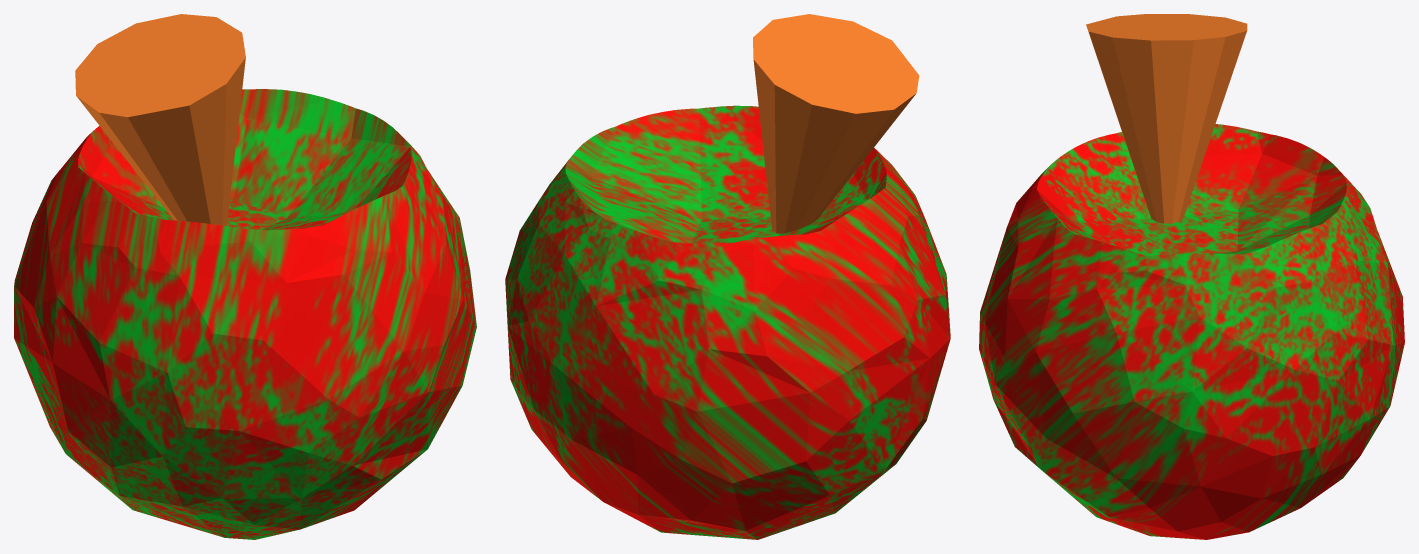
The model's file is cherrySpoiled.glb.
3 views of the same model, side by side, from view 1: azimuth 30°, elevation 25°; view 2: azimuth 150°, elevation 25°; view 3: azimuth 270°, elevation 25° (orthographic). The views are drawn at different scales.
Parts seen in each view (by area): view 1: Mesh_0.002, Mesh_1.002; view 2: Mesh_0.002, Mesh_1.002; view 3: Mesh_0.002, Mesh_1.002.
Part boxes in pixels (bbox=[...]): Mesh_0.002: bbox=[14, 89, 476, 539]; Mesh_1.002: bbox=[75, 14, 245, 225]; Mesh_0.002: bbox=[505, 105, 950, 539]; Mesh_1.002: bbox=[753, 14, 919, 233]; Mesh_0.002: bbox=[979, 124, 1404, 539]; Mesh_1.002: bbox=[1086, 14, 1247, 223].
Size of the model in its own units: 0.0399 by 0.0476 by 0.0396.
Materials: 2 (1 with a texture image).
